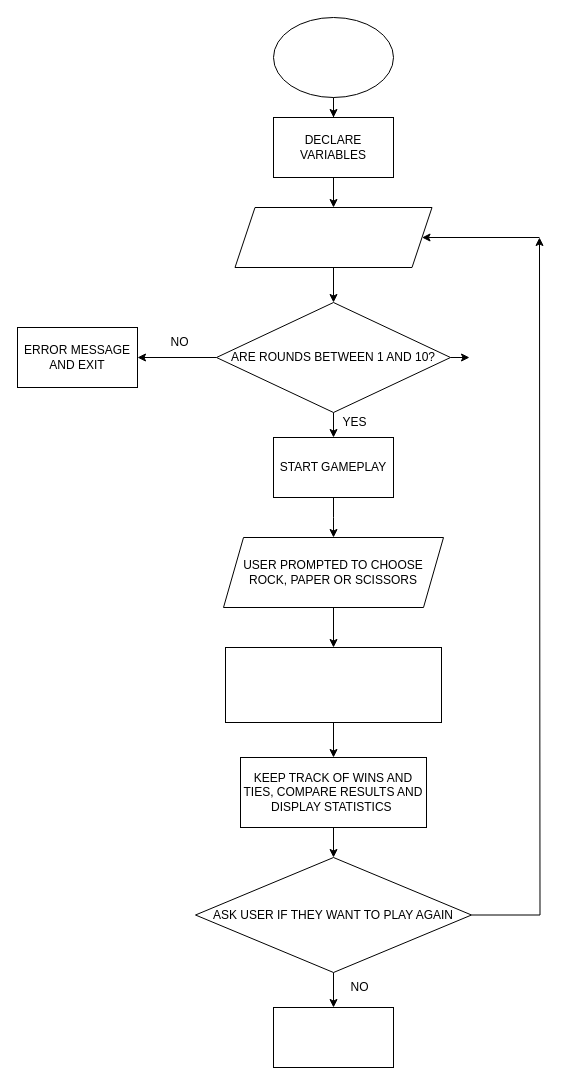
This 566x1085 diagram has some shape labels left out. Each missing label, with the box of its shape:
ASK USER FOR NUMBER OF ROUNDS: (234, 206, 432, 268)
COMPUTER RANDOMLY CHOOSES ROCK, PAPER OR SCISSORS: (224, 646, 442, 722)
PRINT MESSAGE AND EXIT: (272, 1006, 394, 1068)
START: (272, 16, 394, 98)
